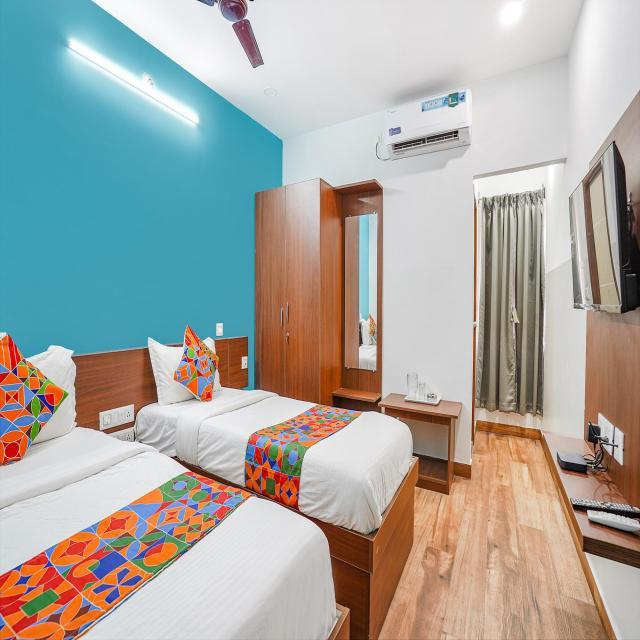bed: (0, 425, 350, 639), (134, 386, 418, 640)
